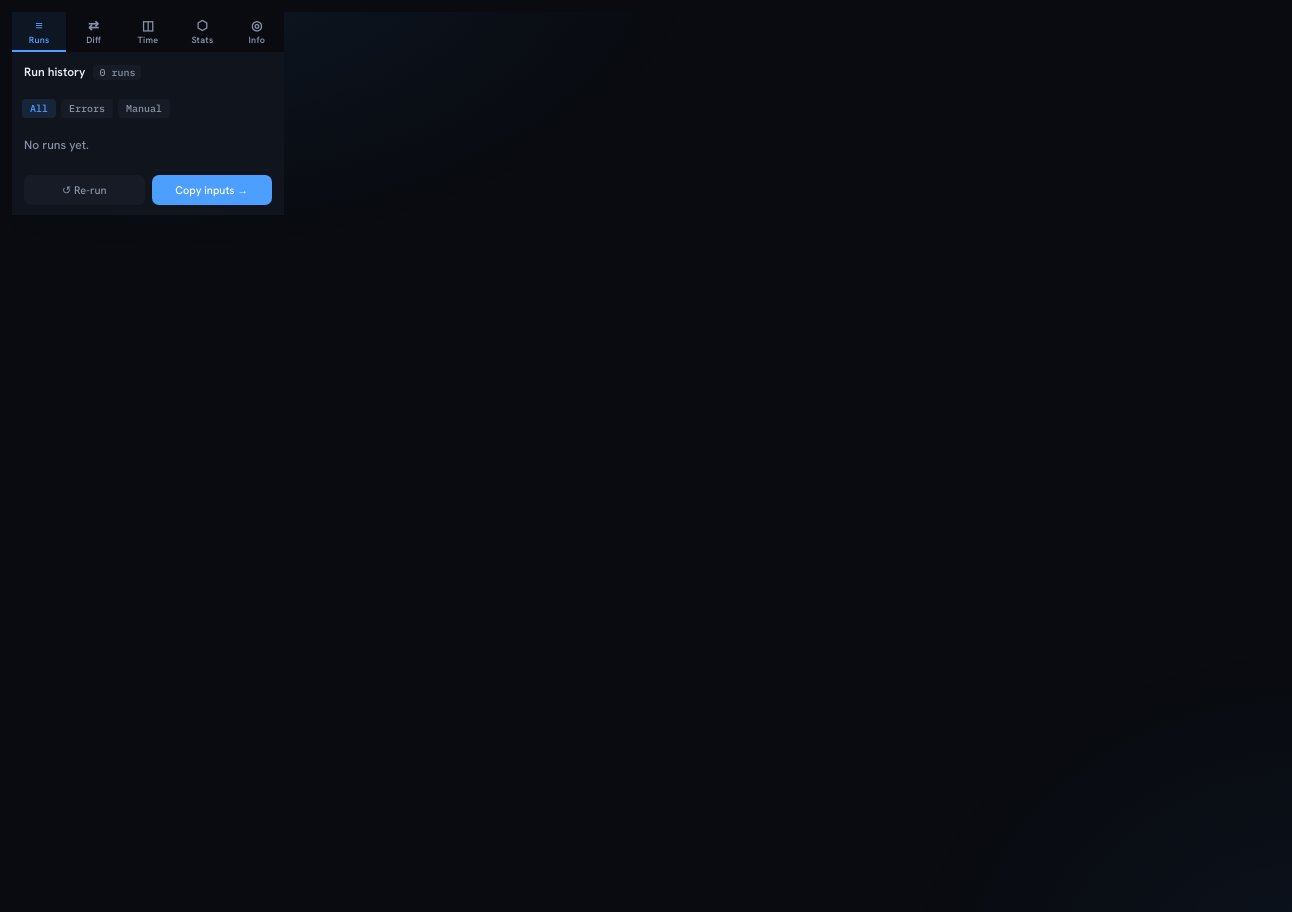
Test case: RunSidecar › switches to Diff panel on tab click
This screenshot has width=1292, height=912.
Click the text "Diff".
click(94, 40)  # box [86,34,101,46]
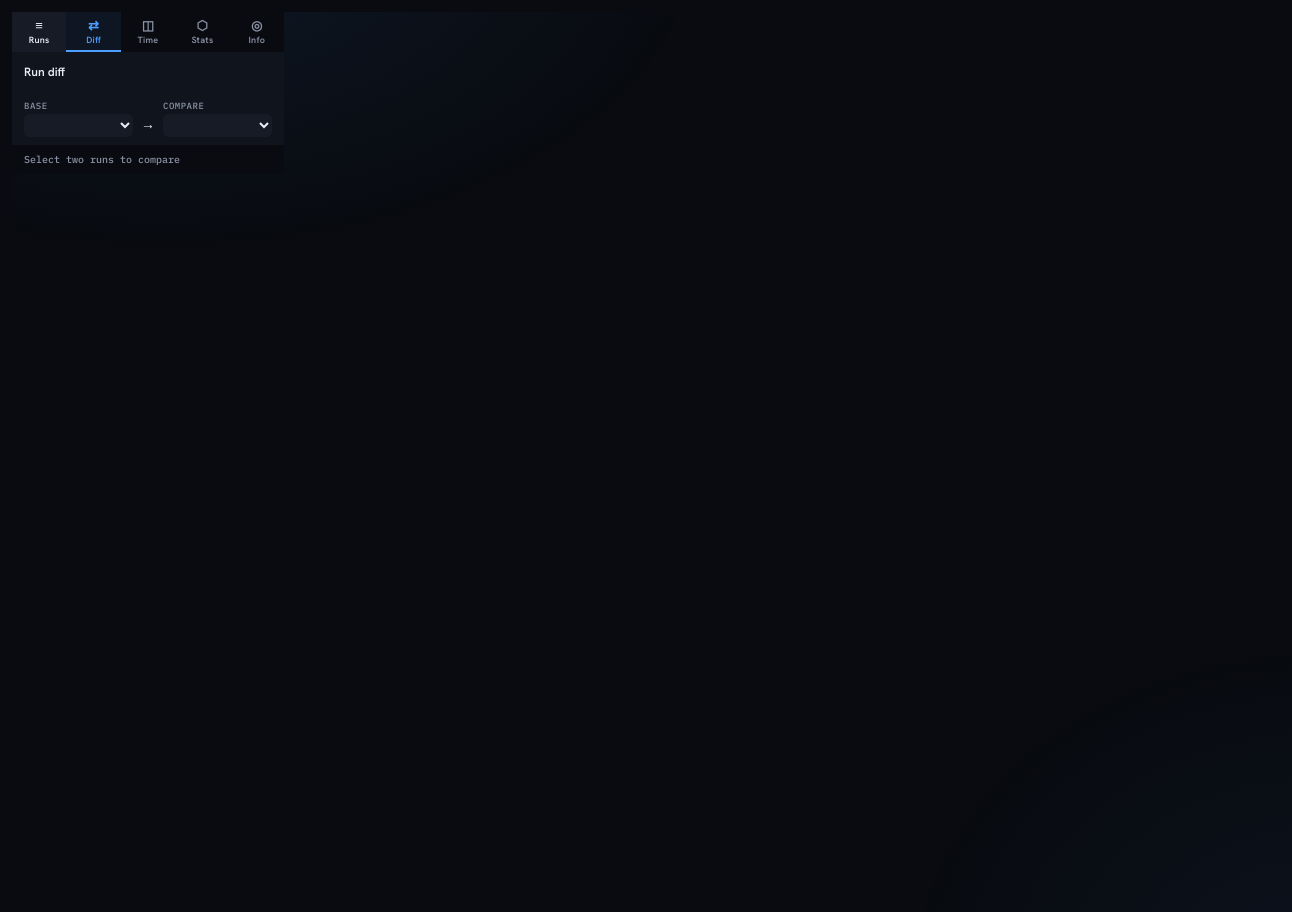
Check: the text "Run diff" is shown, box [24,64,65,80]
Check: the text "Run history" is gone
